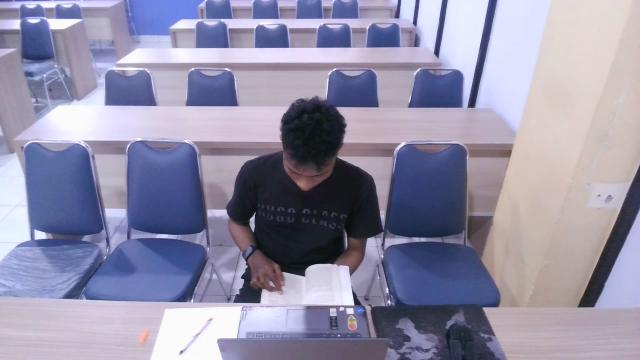Cheat_Sheet: (259, 259, 356, 311)
Head_Down_Extreme: (220, 84, 391, 329)
